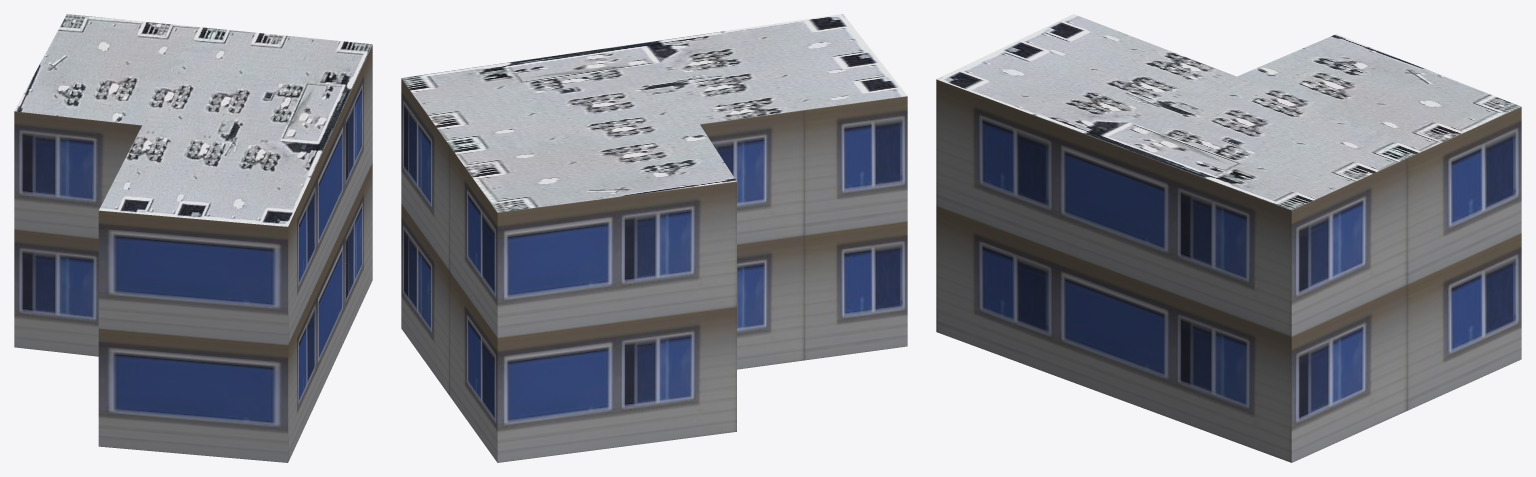
Rendered from ResTex__514.fbx.
The picture shows the model from 3 angles, left to right: view 1: azimuth 30°, elevation 25°; view 2: azimuth 150°, elevation 25°; view 3: azimuth 270°, elevation 25°; orthographic projection. The views are drawn at different scales.
Parts seen in each view (by area): view 1: CityEngineMaterial_23_m, CityEngineMaterial_8_m; view 2: CityEngineMaterial_23_m, CityEngineMaterial_8_m; view 3: CityEngineMaterial_23_m, CityEngineMaterial_8_m.
Boxes of the visible parts, box(x1,y1,x2,y2) form: CityEngineMaterial_23_m: box(14, 45, 372, 462); CityEngineMaterial_8_m: box(14, 14, 372, 226); CityEngineMaterial_23_m: box(401, 78, 907, 462); CityEngineMaterial_8_m: box(401, 14, 907, 212); CityEngineMaterial_23_m: box(936, 79, 1521, 462); CityEngineMaterial_8_m: box(936, 14, 1520, 210).
Bounding box in the file's own units: 10 × 6 × 12.6.
Materials: 2 (2 with a texture image).
